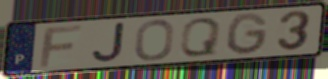3: (274, 9, 313, 53)
F: (37, 23, 85, 69)
G: (226, 11, 271, 57)
J: (90, 21, 126, 65)
O: (133, 18, 176, 62)
Q: (177, 16, 223, 58)
